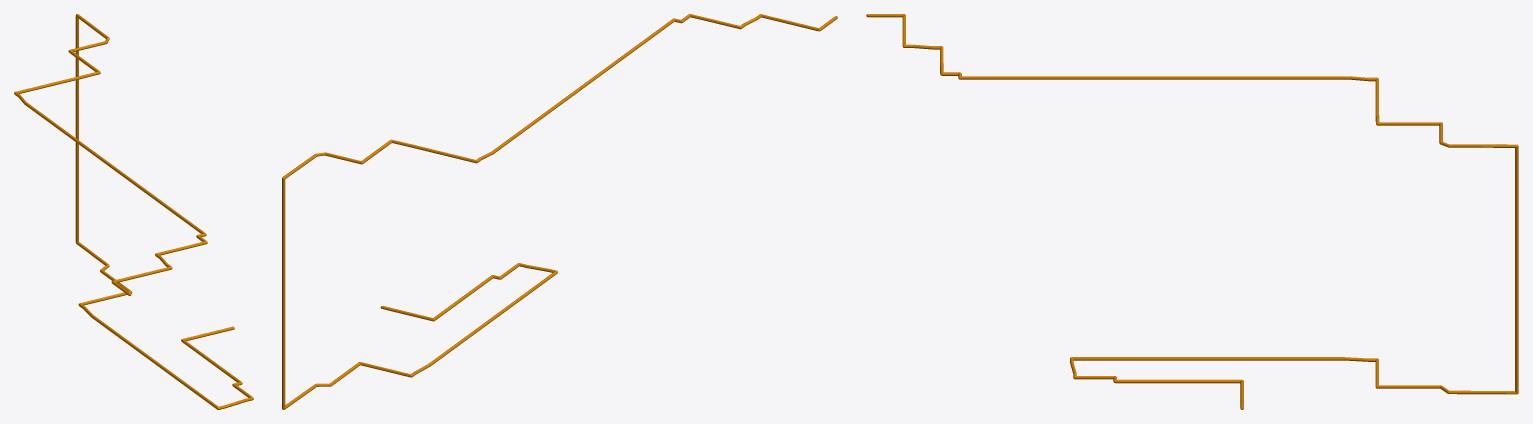
3 views of the same model, side by side, from view 1: azimuth 30°, elevation 25°; view 2: azimuth 150°, elevation 25°; view 3: azimuth 270°, elevation 25° (orthographic). The views are drawn at different scales.
Bounding box in the file's own units: 1926 × 1520 × 3598.
